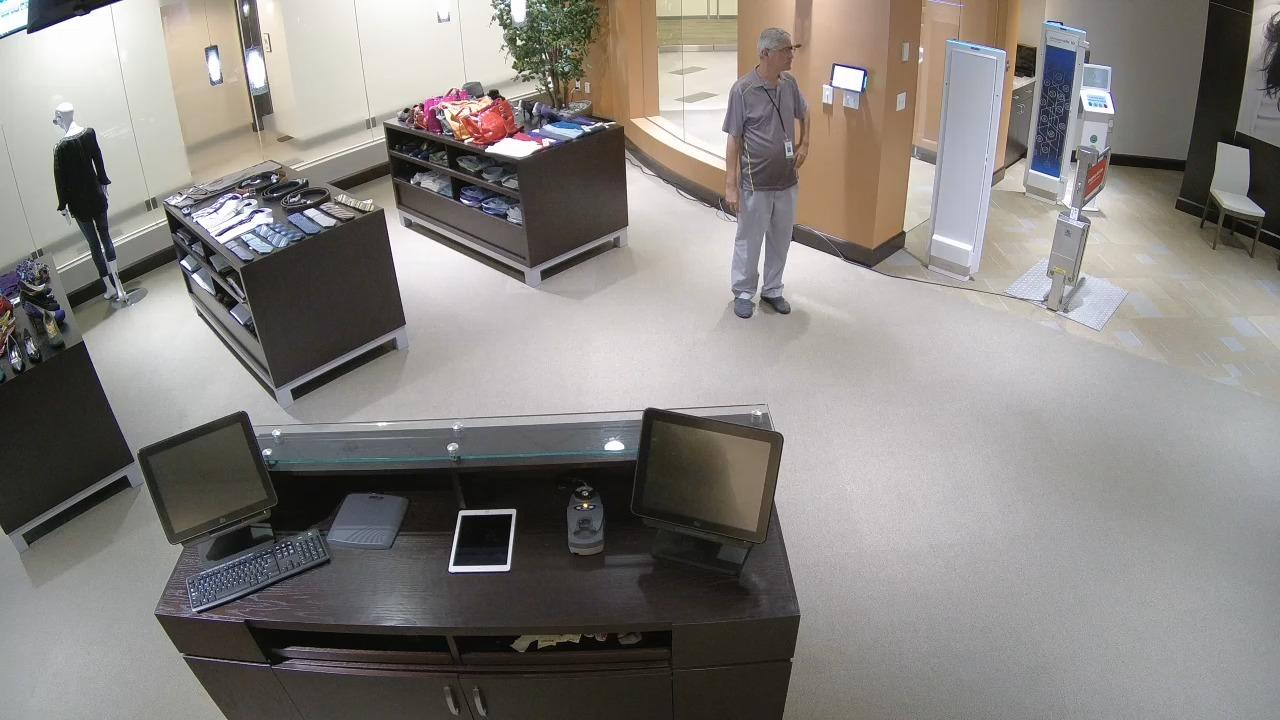normal: (707, 15, 815, 324)
